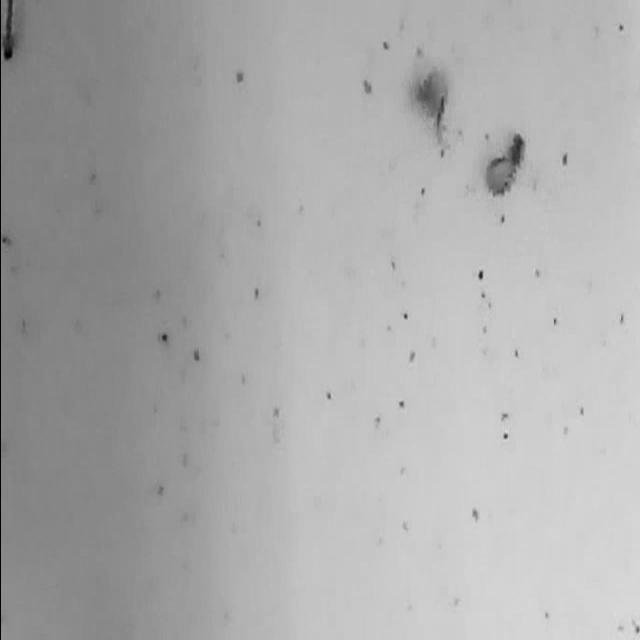larvas: (412, 65, 448, 145), (484, 134, 526, 196), (0, 0, 16, 58)
